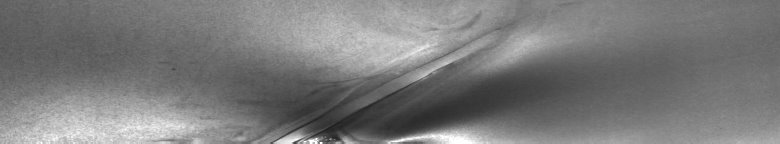ke: (125, 14, 519, 136)
